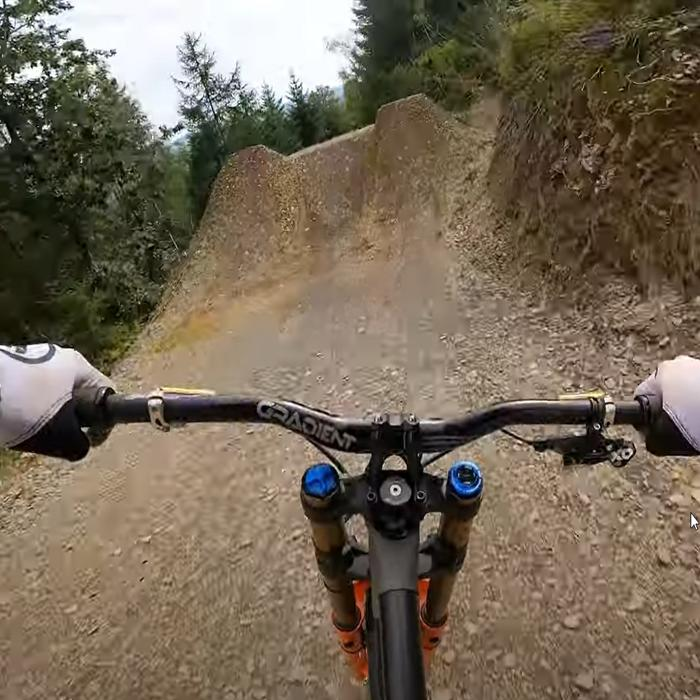turn: (192, 126, 312, 272), (353, 84, 469, 211)
